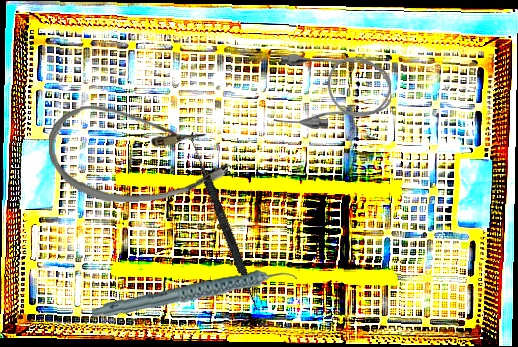Cannula: (47, 101, 230, 205), (274, 54, 391, 129)
Handpiece: (92, 264, 297, 326)
Spatula Surgical: (183, 131, 264, 312)
